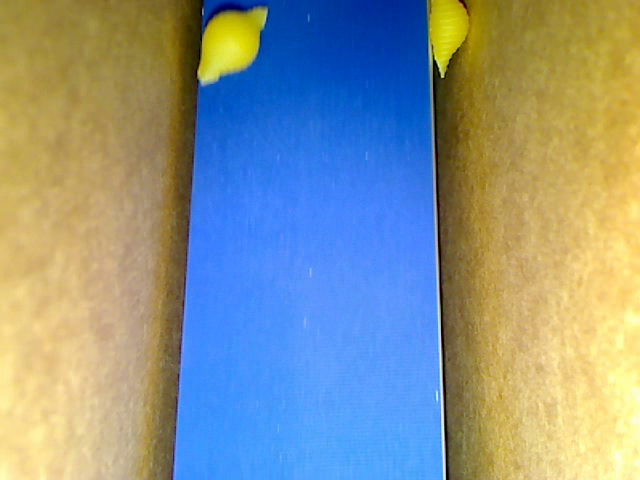shell: (196, 6, 266, 85), (427, 1, 471, 85)
